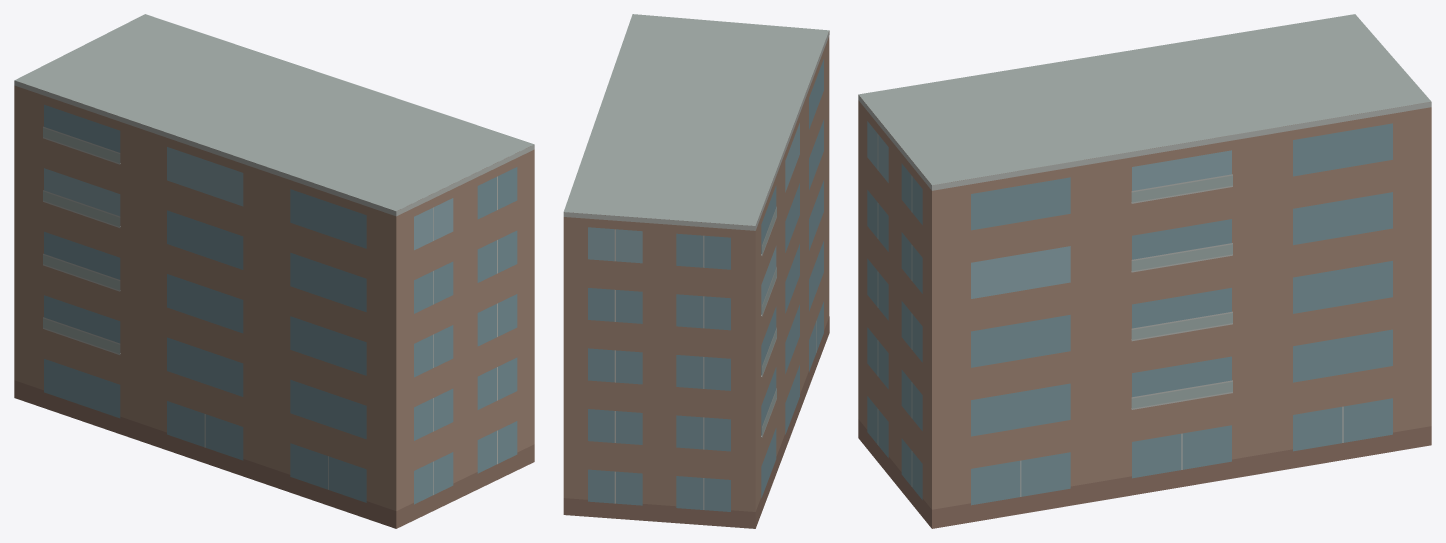
Rendered from survey-upis-32861537.glb.
The picture shows the model from 3 angles, left to right: view 1: azimuth 30°, elevation 25°; view 2: azimuth 150°, elevation 25°; view 3: azimuth 270°, elevation 25°; orthographic projection. The views are drawn at different scales.
Visible parts, largest first — view 1: survey-upis-32861537.tmp; view 2: survey-upis-32861537.tmp; view 3: survey-upis-32861537.tmp.
Boxes of the visible parts, x1=… form: survey-upis-32861537.tmp: x1=14, y1=14, x2=534, y2=528; survey-upis-32861537.tmp: x1=563, y1=14, x2=829, y2=528; survey-upis-32861537.tmp: x1=858, y1=14, x2=1431, y2=528.
Bounding box in the file's own units: 16.26 × 15.2 × 22.99.
